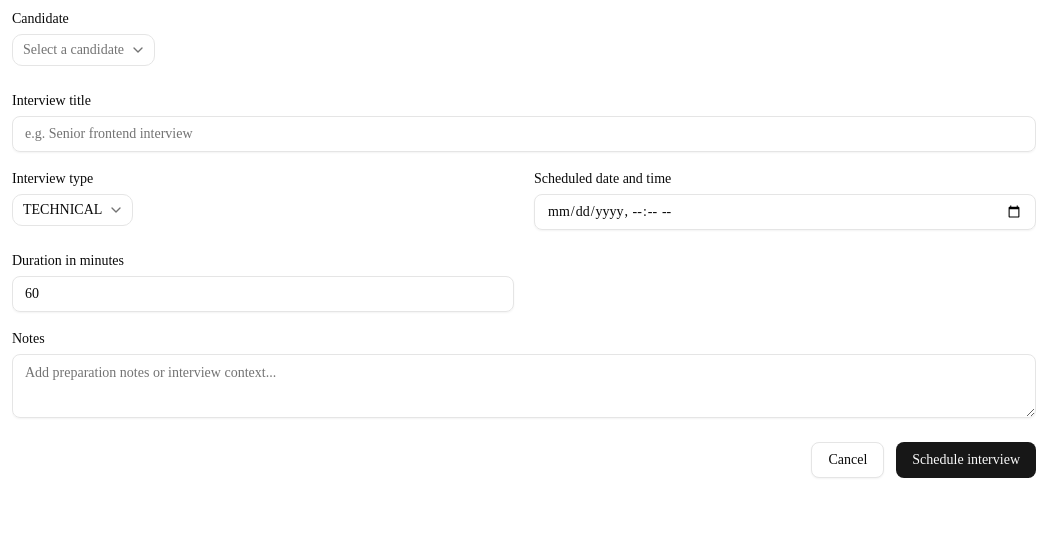
Test: InterviewForm › displays a general server error
This screenshot has width=1048, height=539.
Step 1. Click the dropdown labelled "candidate" → click(84, 50), box [12,34,155,66]
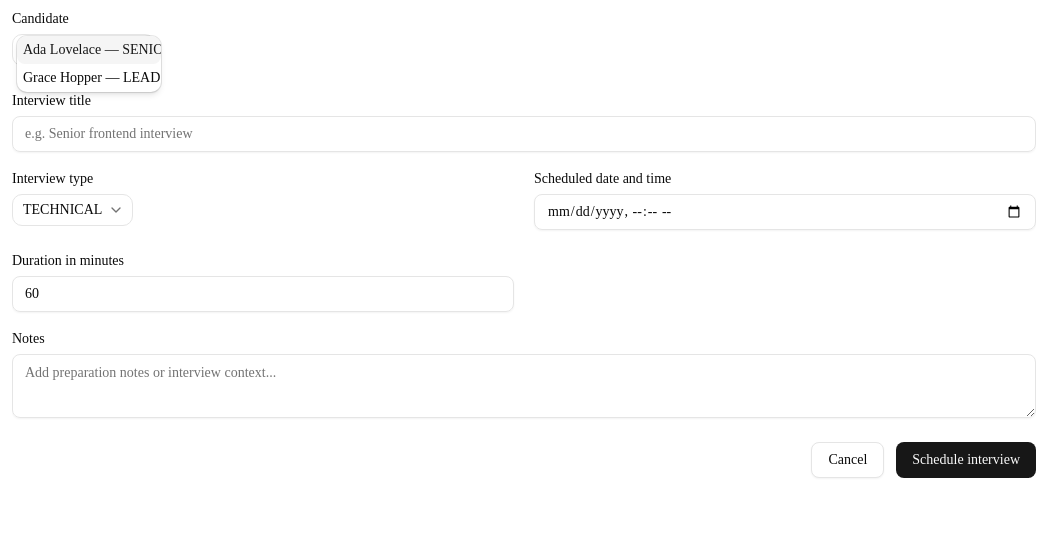
Step 2. Click the option "Ada Lovelace — SENIOR" → click(89, 50), box [17,36,161,64]
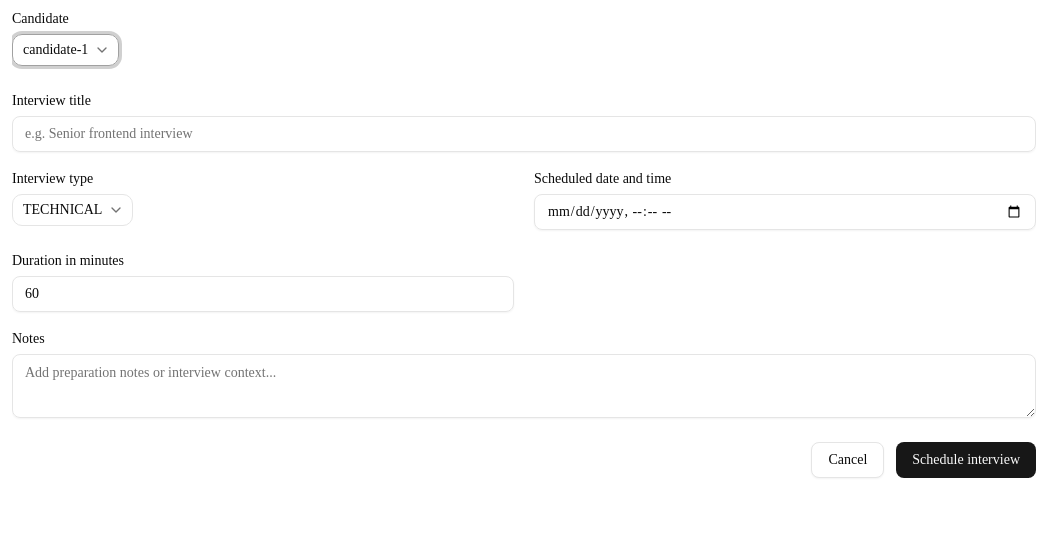
Step 3. Type "Senior frontend interview" into the field labelled "Interview title" → (524, 134), box [12,116,1036,152]
Step 4. Type "2026-07-30T14:30" into the field labelled "Scheduled date and time" → (785, 212), box [534,194,1036,230]
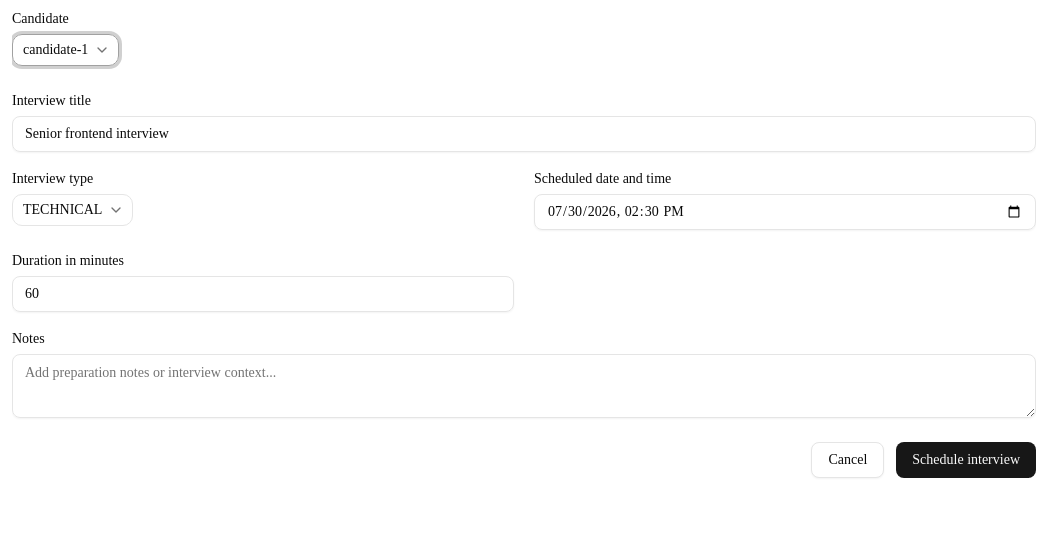
Step 5. Replace the text in the number field labelled "Duration in minutes" with "90" → (263, 294), box [12,276,514,312]
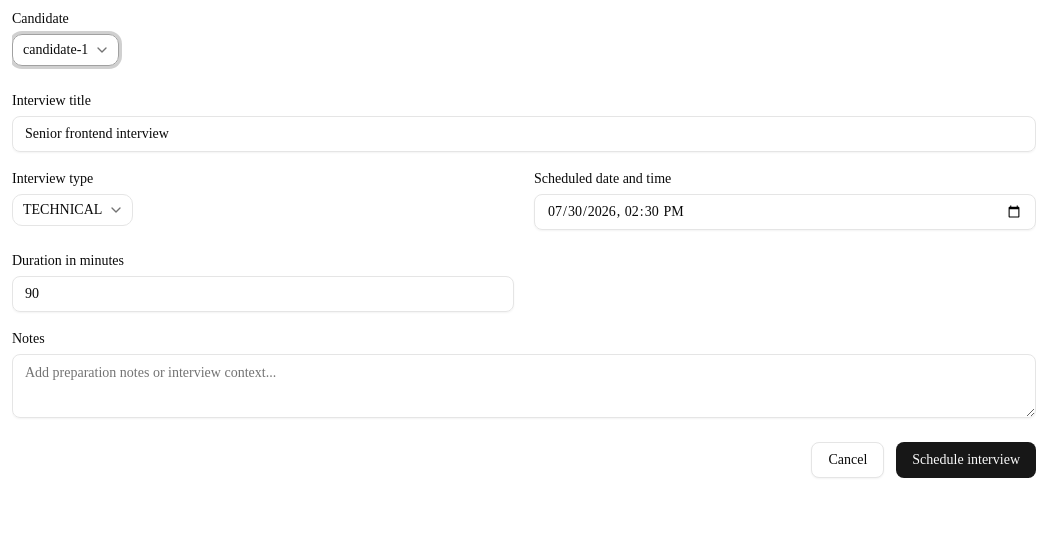
Step 6. Type "Focus on architecture." into the text box labelled "Notes" → (524, 386), box [12,354,1036,418]
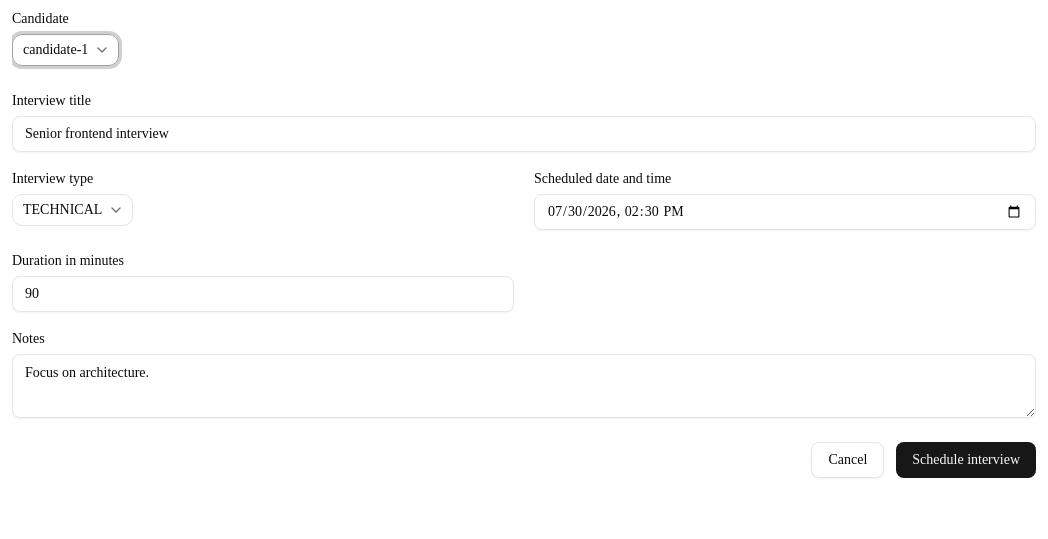
Step 7. Click the button "Schedule interview" → click(966, 460), box [896,442,1036,478]
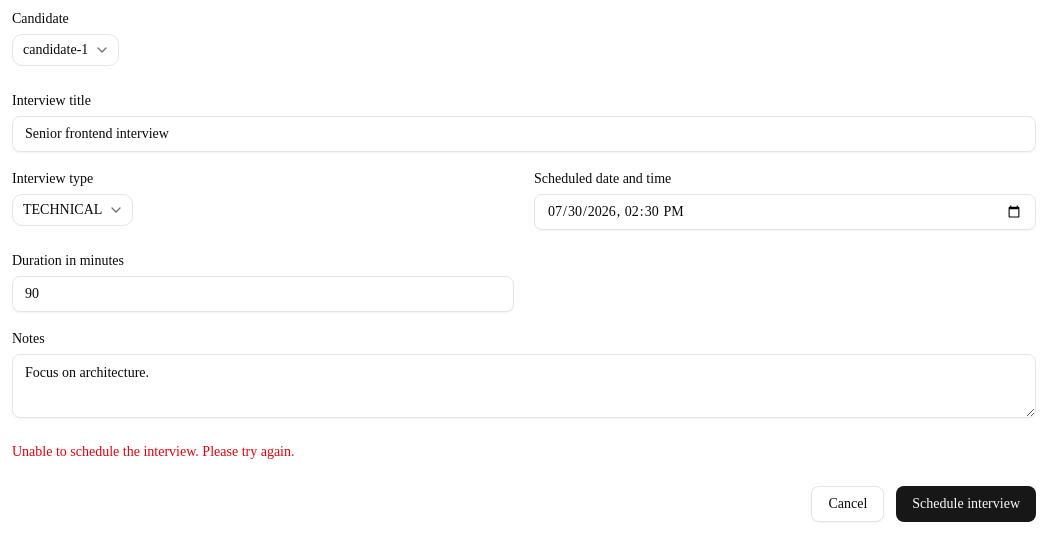
Now the text "Unable to schedule the interview. Please try again." is shown, box [12,444,294,459]
